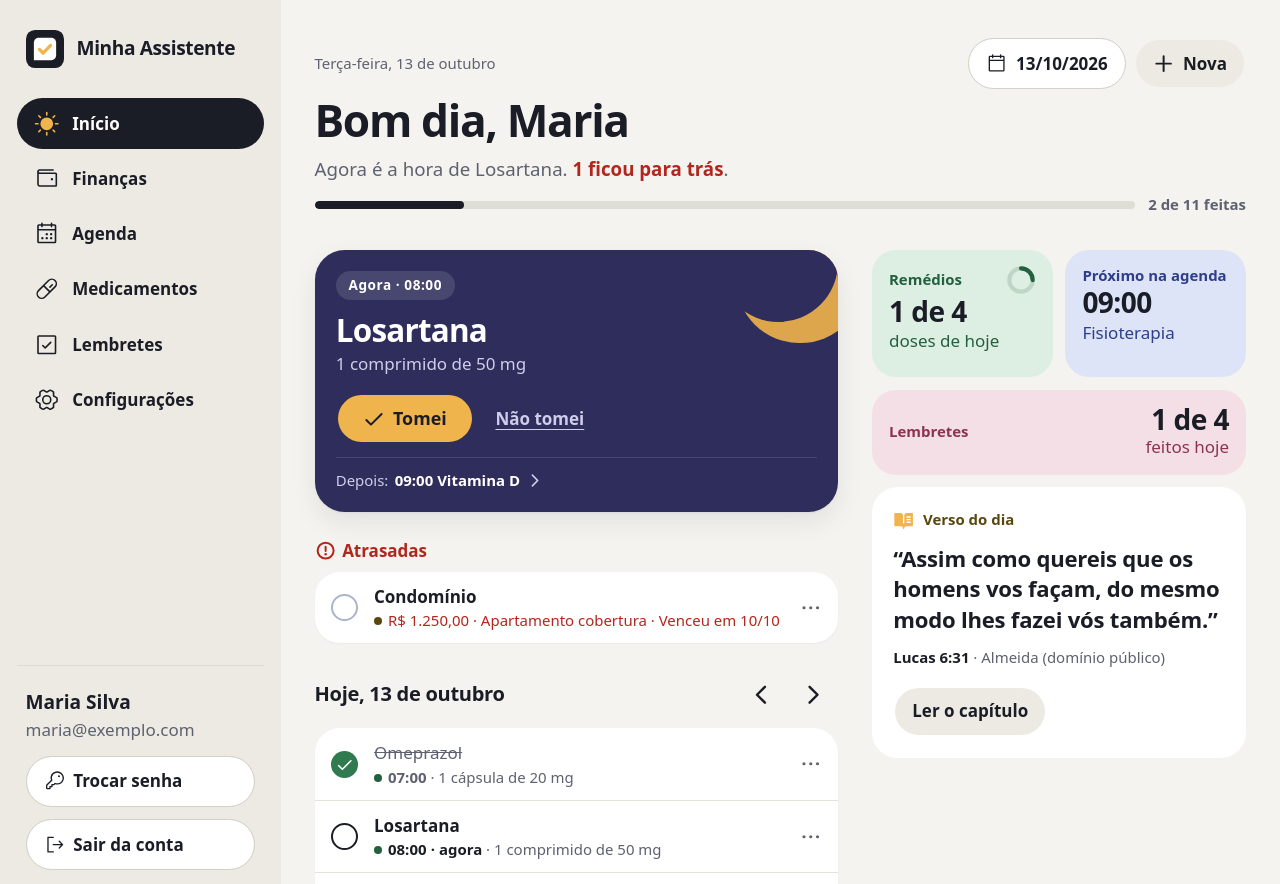
tela Hoje: tarefas do dia › ✓ na conta marca como paga; "Não paguei" (no ⋯) marca como não paga
The image size is (1280, 884).
Click the button named "Paguei: Condomínio".
click(344, 608)  # box [319,582,370,633]
(page scrolled)
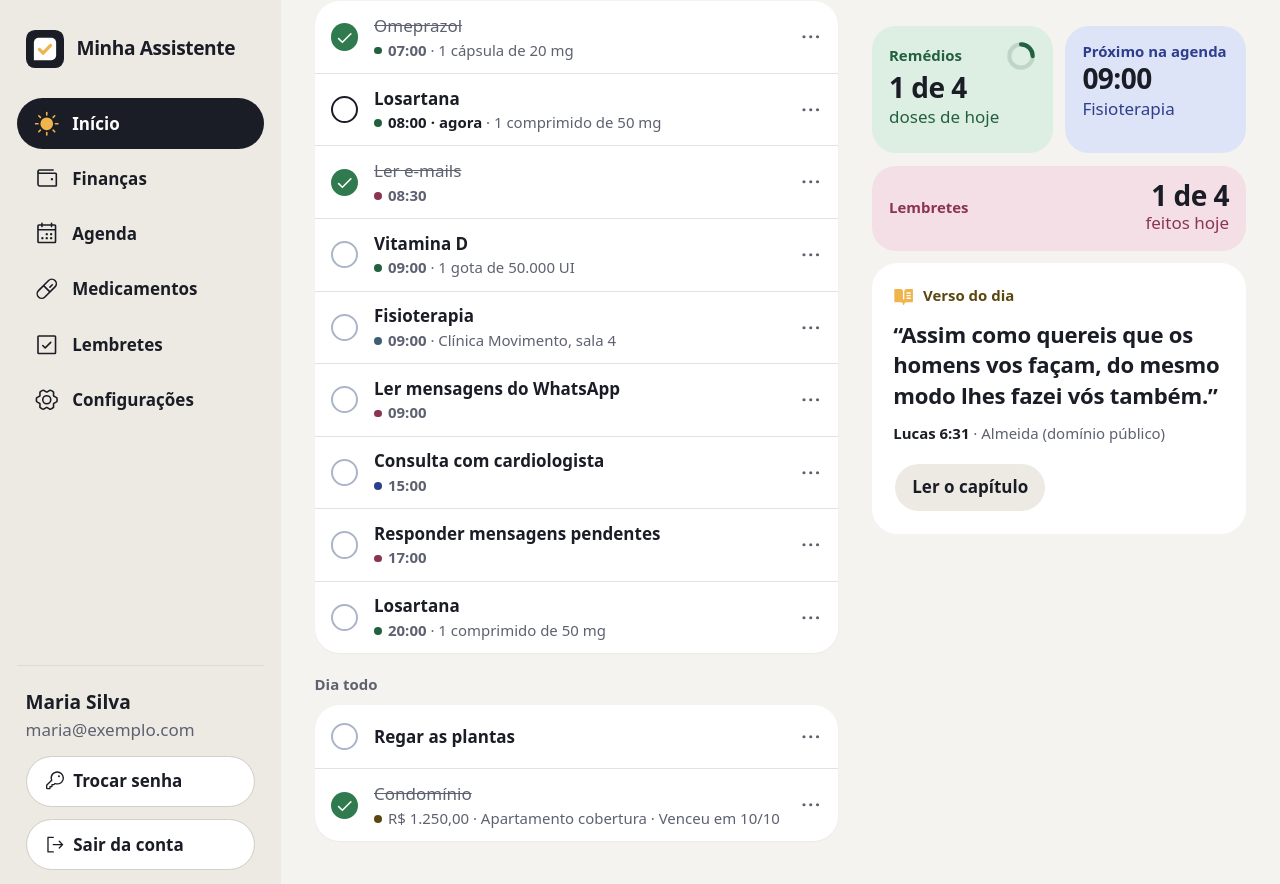
Now the heading "Atrasadas" is gone
Click the button named "Mais opções: Condomínio".
click(810, 805)  # box [787,782,834,829]
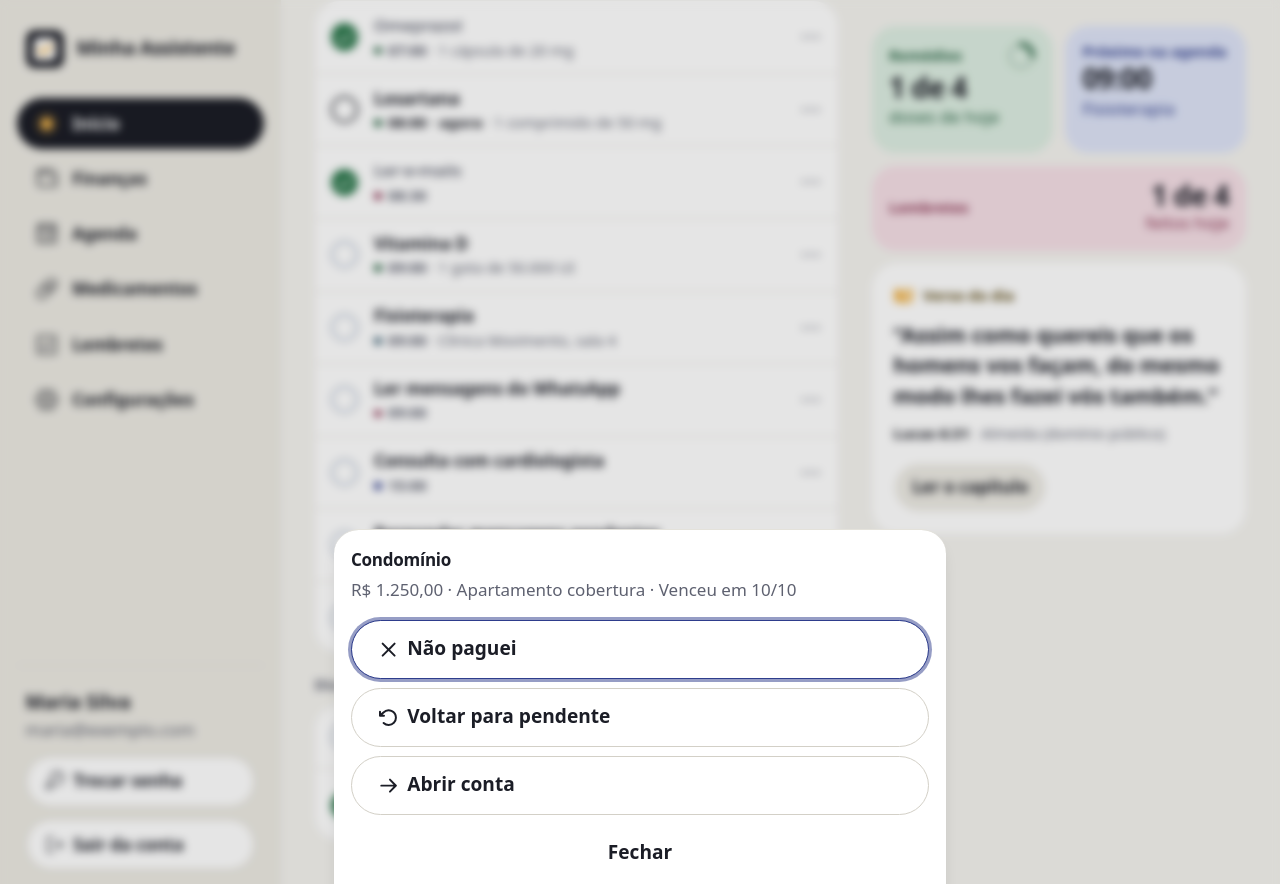
Click the button "Não paguei".
click(462, 648)  # box [351,620,929,679]
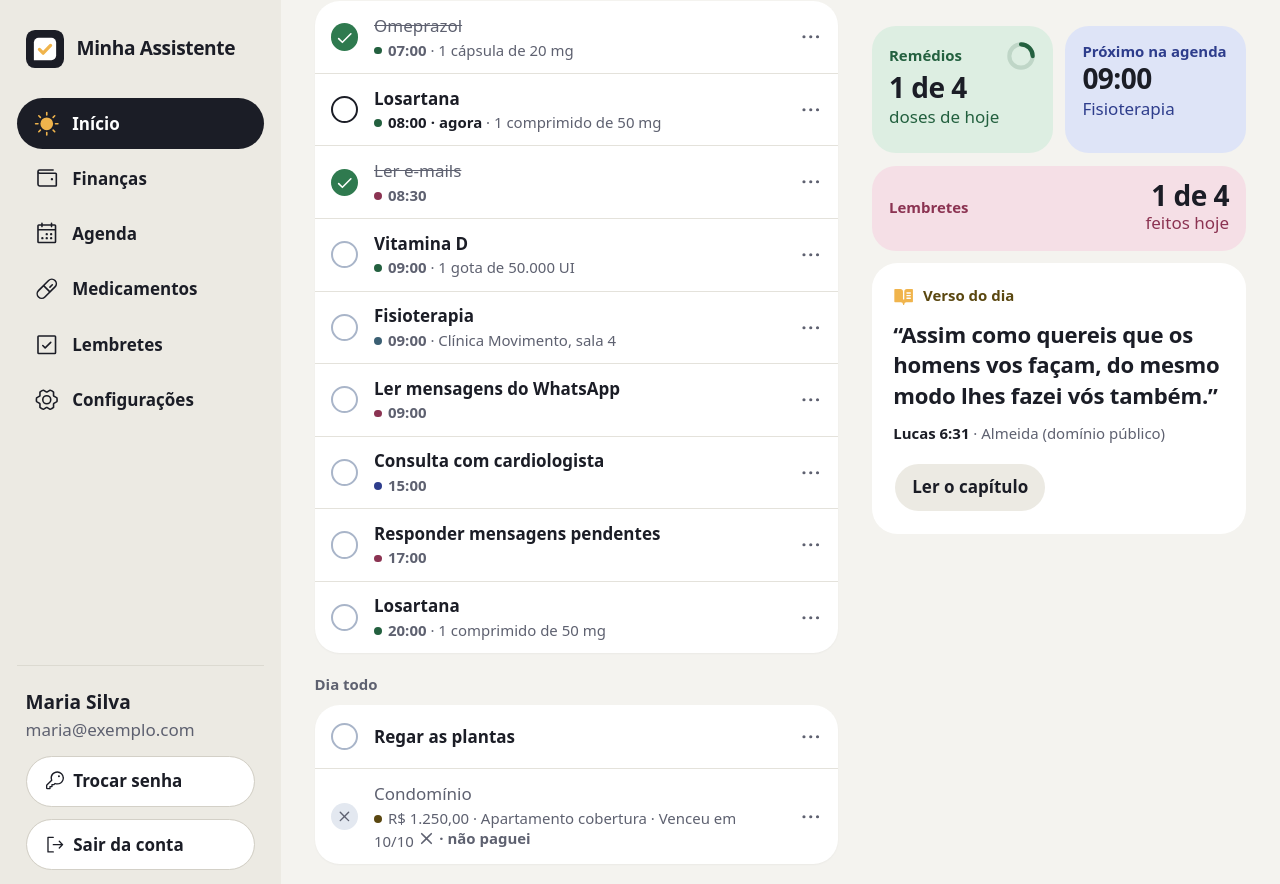
Now the text "· não paguei" is shown, box [418,828,531,849]
